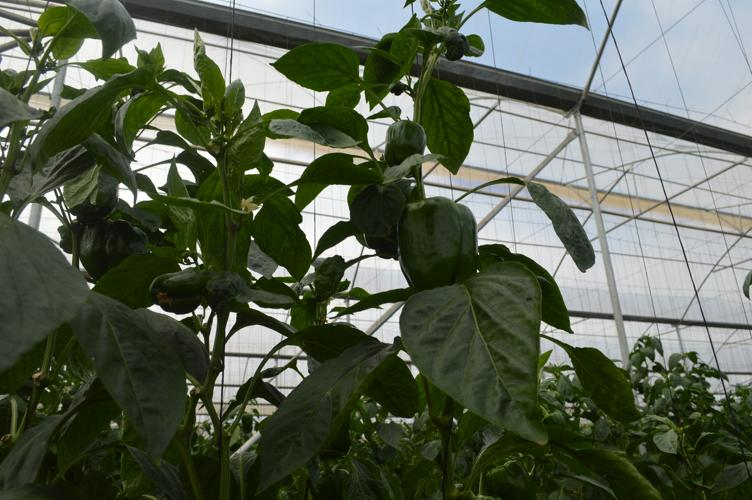BellPepper: (393, 199, 478, 288), (74, 219, 148, 270), (151, 271, 216, 313), (382, 119, 427, 166)
